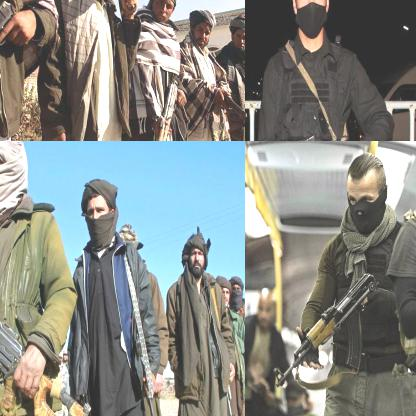rifle: (0, 222, 93, 415), (271, 270, 383, 405), (0, 0, 59, 140), (143, 83, 185, 140), (211, 83, 244, 128)
